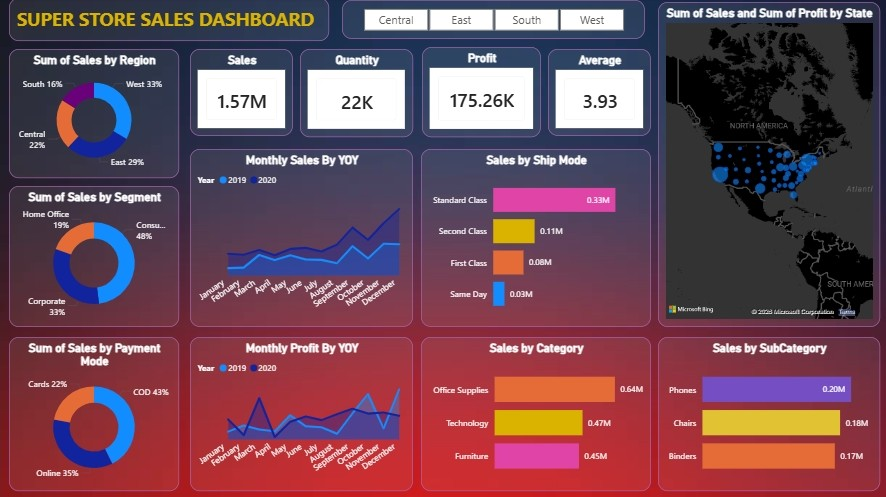

This screenshot's page, from the dashboard's own definition file:
{"tool":"powerbi","page":{"name":"Page 1","canvas":[1280,720],"ordinal":0},"visuals":[{"type":"clusteredBarChart","title":"Sales by Category","fields":{"Category":["SuperStore_Sales_Dataset.Category"],"Y":["Sum(SuperStore_Sales_Dataset.Sales)"]},"box":[606.2,488.2,331.2,221.8],"z":0},{"type":"clusteredBarChart","title":"Sales by SubCategory","fields":{"Y":["Sum(SuperStore_Sales_Dataset.Sales)"],"Category":["SuperStore_Sales_Dataset.Sub-Category"]},"box":[947.5,488.2,319.7,221.8],"z":1000},{"type":"clusteredBarChart","title":"Sales by Ship Mode","fields":{"Y":["Sum(SuperStore_Sales_Dataset.Sales)"],"Category":["SuperStore_Sales_Dataset.Ship Mode"]},"box":[606.2,217.4,331.2,256.3],"z":2000},{"type":"areaChart","title":" Monthly Sales By YOY","fields":{"Y":["Sum(SuperStore_Sales_Dataset.Sales)"],"Category":["SuperStore_Sales_Dataset.Order Date.Variation.Date Hierarchy.Month","SuperStore_Sales_Dataset.Order Date.Variation.Date Hierarchy.Day"],"Series":["SuperStore_Sales_Dataset.Order Date.Variation.Date Hierarchy.Year"]},"box":[273.6,217.4,321.1,256.3],"z":3000},{"type":"areaChart","title":" Monthly Profit By YOY","fields":{"Category":["SuperStore_Sales_Dataset.Order Date.Variation.Date Hierarchy.Month","SuperStore_Sales_Dataset.Order Date.Variation.Date Hierarchy.Day"],"Series":["SuperStore_Sales_Dataset.Order Date.Variation.Date Hierarchy.Year"],"Y":["Sum(SuperStore_Sales_Dataset.Profit)"]},"box":[273.6,488.2,321.1,221.8],"z":4000},{"type":"map","fields":{"Category":["SuperStore_Sales_Dataset.State"],"Size":["Sum(SuperStore_Sales_Dataset.Sales)"]},"box":[947.5,5.8,319.7,468],"z":5000},{"type":"donutChart","fields":{"Category":["SuperStore_Sales_Dataset.Segment"],"Y":["Sum(SuperStore_Sales_Dataset.Sales)"]},"box":[13,270.7,244.8,203],"z":6000},{"type":"donutChart","fields":{"Y":["Sum(SuperStore_Sales_Dataset.Sales)"],"Category":["SuperStore_Sales_Dataset.Payment Mode"]},"box":[13,488.2,244.8,221.8],"z":7000},{"type":"slicer","fields":{"Values":["SuperStore_Sales_Dataset.Region"]},"box":[466.6,5.8,436.3,56.2],"z":8000},{"type":"textbox","box":[13,0,424.8,61.9],"z":9000},{"type":"cardVisual","title":"Sales","fields":{"Data":["Sum(SuperStore_Sales_Dataset.Sales)"]},"box":[273.6,73.4,148.3,125.3],"z":10000},{"type":"cardVisual","title":"Quantity","fields":{"Data":["Sum(SuperStore_Sales_Dataset.Quantity)"]},"box":[432,73.4,162.7,126.7],"z":11000},{"type":"cardVisual","title":"Profit","fields":{"Data":["Sum(SuperStore_Sales_Dataset.Profit)"]},"box":[607.7,70.6,171.4,129.6],"z":12000},{"type":"cardVisual","title":"Average","fields":{"Data":["Avg(SuperStore_Sales_Dataset.AvgDelivery)"]},"box":[789.1,73.4,148.3,125.3],"z":13000},{"type":"donutChart","fields":{"Y":["Sum(SuperStore_Sales_Dataset.Sales)"],"Category":["SuperStore_Sales_Dataset.Region"]},"box":[13,73.4,244.8,185.8],"z":14000}]}

Visuals, with their boxes in screenshot pixels (x1, y1, x2, y2), scaled from the page's 1280x720 canvas onto the 886x497 screenshot:
"Sales by Category" clusteredBarChart: (x1=420, y1=337, x2=649, y2=490)
"Sales by SubCategory" clusteredBarChart: (x1=656, y1=337, x2=877, y2=490)
"Sales by Ship Mode" clusteredBarChart: (x1=420, y1=150, x2=649, y2=327)
" Monthly Sales By YOY" areaChart: (x1=189, y1=150, x2=412, y2=327)
" Monthly Profit By YOY" areaChart: (x1=189, y1=337, x2=412, y2=490)
map - SuperStore_Sales_Dataset.State x Sum(SuperStore_Sales_Dataset.Sales): (x1=656, y1=4, x2=877, y2=327)
donutChart - SuperStore_Sales_Dataset.Segment x Sum(SuperStore_Sales_Dataset.Sales): (x1=9, y1=187, x2=178, y2=327)
donutChart - Sum(SuperStore_Sales_Dataset.Sales) x SuperStore_Sales_Dataset.Payment Mode: (x1=9, y1=337, x2=178, y2=490)
slicer - SuperStore_Sales_Dataset.Region: (x1=323, y1=4, x2=625, y2=43)
textbox: (x1=9, y1=0, x2=303, y2=43)
"Sales" cardVisual: (x1=189, y1=51, x2=292, y2=137)
"Quantity" cardVisual: (x1=299, y1=51, x2=412, y2=138)
"Profit" cardVisual: (x1=421, y1=49, x2=539, y2=138)
"Average" cardVisual: (x1=546, y1=51, x2=649, y2=137)
donutChart - Sum(SuperStore_Sales_Dataset.Sales) x SuperStore_Sales_Dataset.Region: (x1=9, y1=51, x2=178, y2=179)
